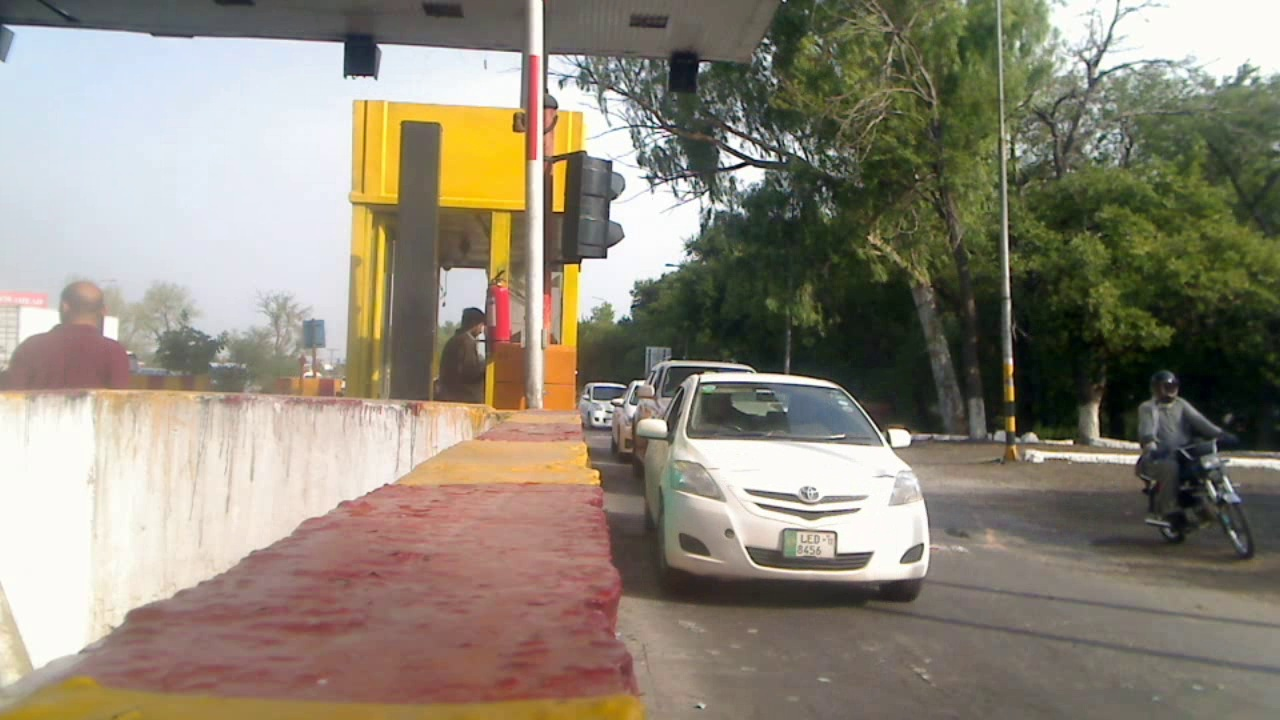Number Plate (Car): (783, 528, 834, 558)
